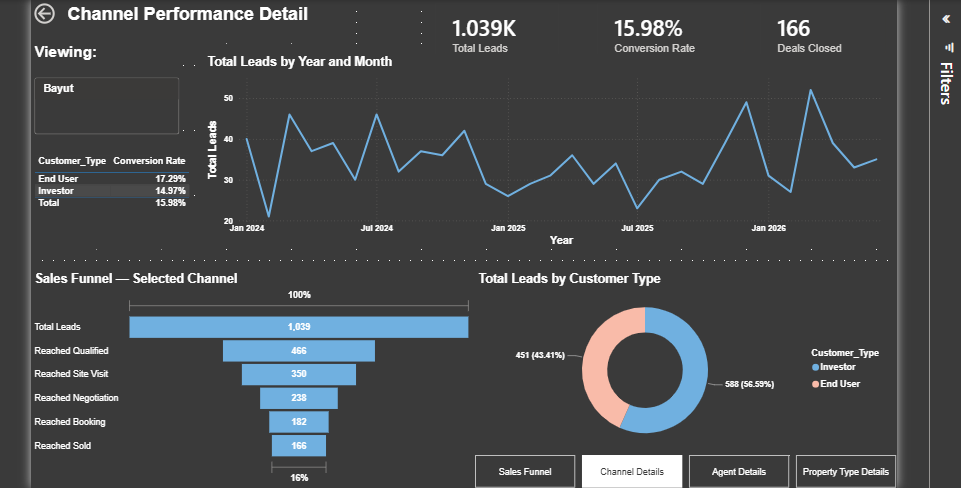

This screenshot's page, from the dashboard's own definition file:
{"tool":"powerbi","page":{"name":"Channel Details","canvas":[1280,720],"ordinal":1},"visuals":[{"type":"actionButton","box":[0,0,100,40],"z":0},{"type":"cardVisual","fields":{"Data":["silver leads.Total Leads"]},"box":[592,0,192,96],"z":1000},{"type":"cardVisual","fields":{"Data":["All_Sales.Deals Closed"]},"box":[1072,0,208,96],"z":2000},{"type":"cardVisual","fields":{"Data":["silver leads.Conversion Rate"]},"box":[832,0,240,96],"z":3000},{"type":"funnel","title":"Sales Funnel — Selected Channel","fields":{"Y":["silver leads.Total Leads","silver leads.Reached Qualified","silver leads.Reached Site Visit","silver leads.Reached Negotiation","silver leads.Reached Booking","silver leads.Reached Sold"]},"box":[0,400,656,320],"z":4000},{"type":"donutChart","title":"Total Leads by Customer Type","fields":{"Category":["silver customers.Customer_Type"],"Y":["silver leads.Total Leads"]},"box":[656,400,624,272],"z":5000},{"type":"tableEx","fields":{"Values":["silver customers.Customer_Type","silver leads.Conversion Rate"]},"box":[0,224,240,144],"z":6000},{"type":"lineChart","fields":{"Y":["silver leads.Total Leads"],"Category":["silver leads.Lead_Date.Variation.Date Hierarchy.Year","silver leads.Lead_Date.Variation.Date Hierarchy.Month","silver leads.Lead_Date.Variation.Date Hierarchy.Day"]},"box":[256,80,1024,288],"z":7000},{"type":"cardVisual","title":"Viewing:","fields":{"Rows":["silver leads.Marketing_Channel"]},"box":[0,64,224,160],"z":8000},{"type":"textbox","box":[48,0,368,64],"z":9000},{"type":"pageNavigator","box":[656,672,624,48],"z":10000}]}

Visuals, with their boxes on the page's 1280x720 design canvas (x1, y1, x2, y2). These are canvas units, not pixel positions in the 961x488 screenshot, which may show the page scaled, cropped or inside an application window:
actionButton: bbox=[0, 0, 100, 40]
cardVisual - silver leads.Total Leads: bbox=[592, 0, 784, 96]
cardVisual - All_Sales.Deals Closed: bbox=[1072, 0, 1280, 96]
cardVisual - silver leads.Conversion Rate: bbox=[832, 0, 1072, 96]
"Sales Funnel — Selected Channel" funnel: bbox=[0, 400, 656, 720]
"Total Leads by Customer Type" donutChart: bbox=[656, 400, 1280, 672]
tableEx - silver customers.Customer_Type x silver leads.Conversion Rate: bbox=[0, 224, 240, 368]
lineChart - silver leads.Total Leads x silver leads.Lead_Date.Variation.Date Hierarchy.Year: bbox=[256, 80, 1280, 368]
"Viewing:" cardVisual: bbox=[0, 64, 224, 224]
textbox: bbox=[48, 0, 416, 64]
pageNavigator: bbox=[656, 672, 1280, 720]
